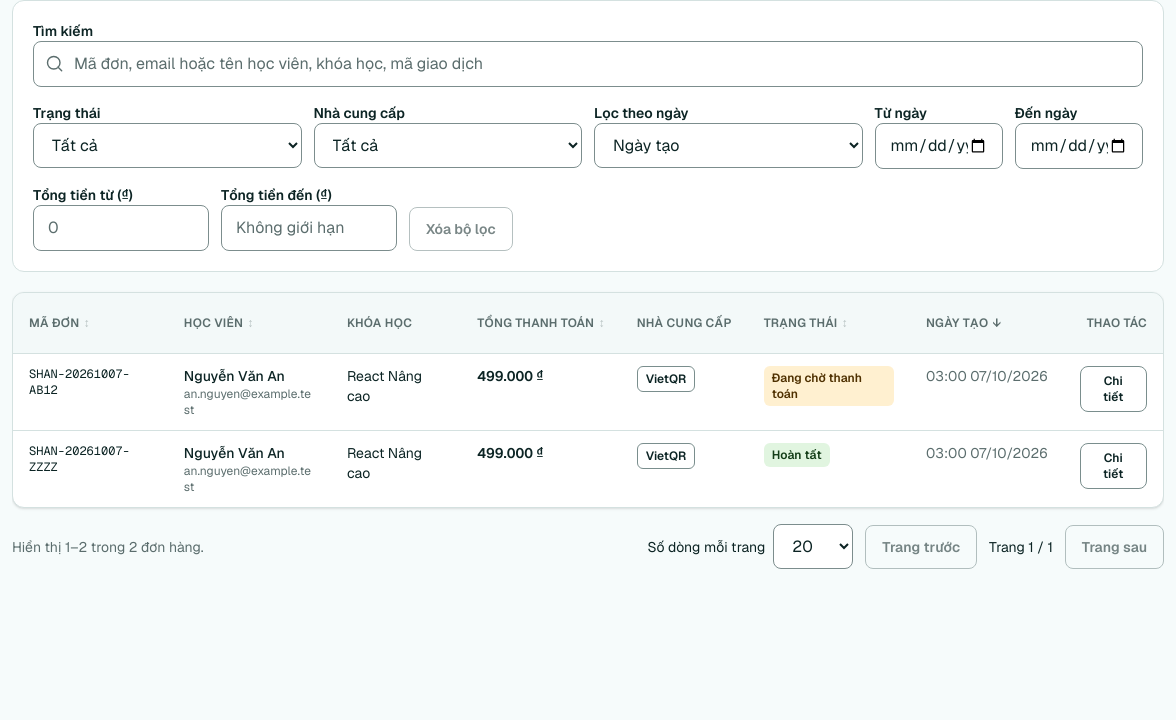
OrdersView › filters by status, provider, date field, dates and amounts
Check: the text "SHAN-20261007-AB12" is shown, box [13, 354, 168, 430]
Select "Đã hoàn tiền" in the dropdown labelled "Trạng thái" at (167, 146), box [33, 123, 302, 168]
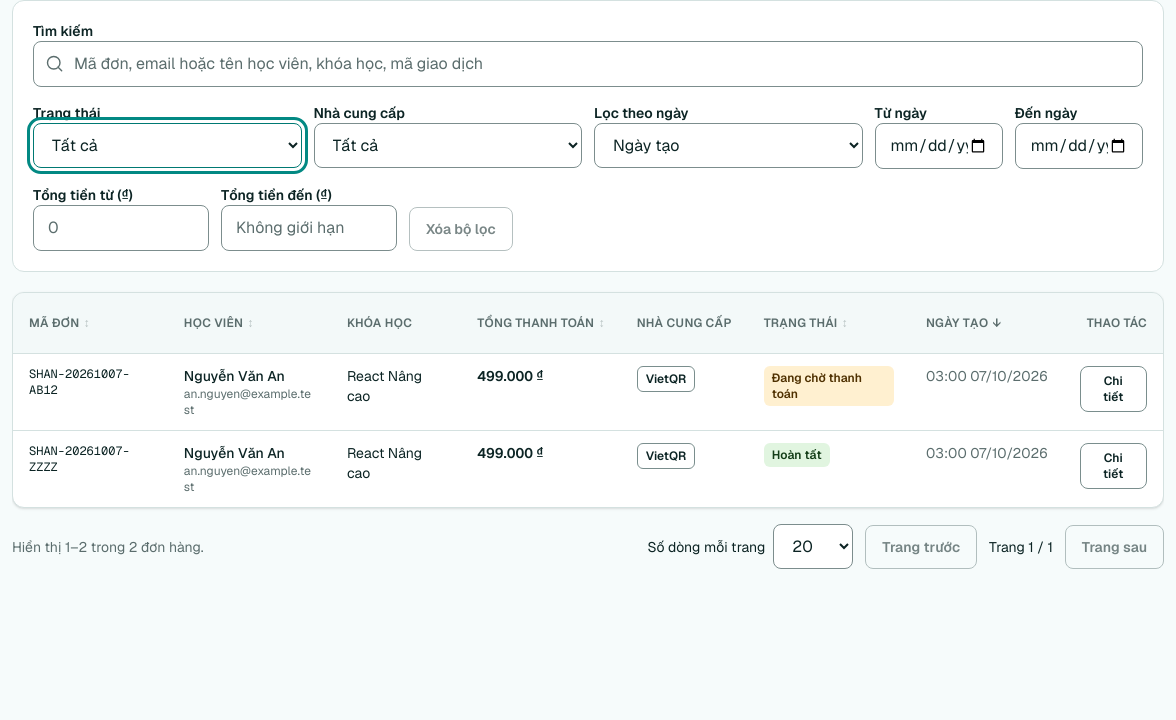
Select "Đối soát thủ công" in the dropdown labelled "Nhà cung cấp" at (448, 146), box [314, 123, 582, 168]
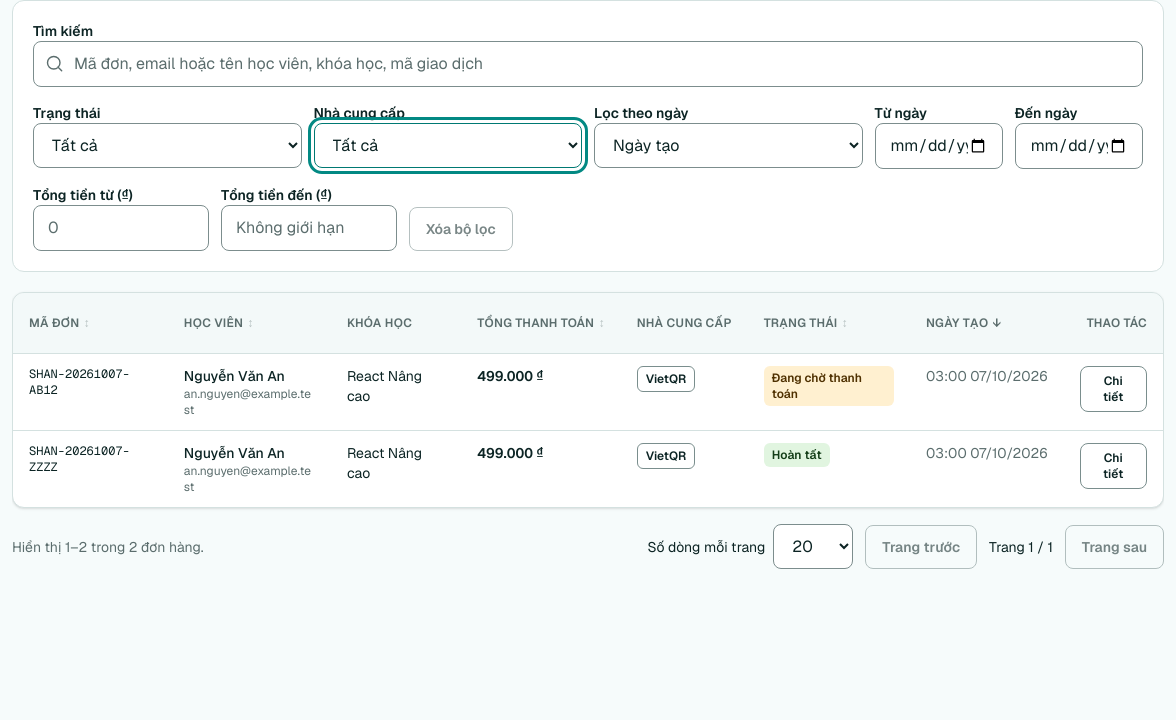
Select "Ngày hoàn tất" in the dropdown labelled "Lọc theo ngày" at (728, 146), box [594, 123, 862, 168]
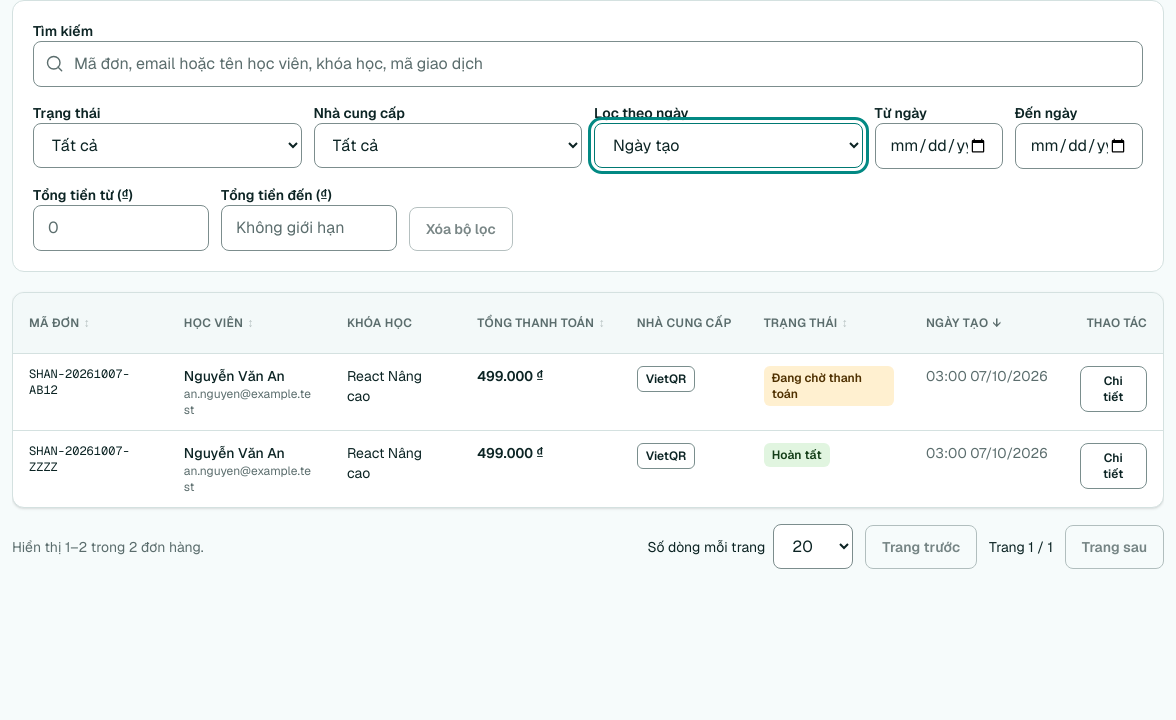
Type "2026-10-01" into the date field labelled "Từ ngày" at (939, 146), box [874, 123, 1003, 169]
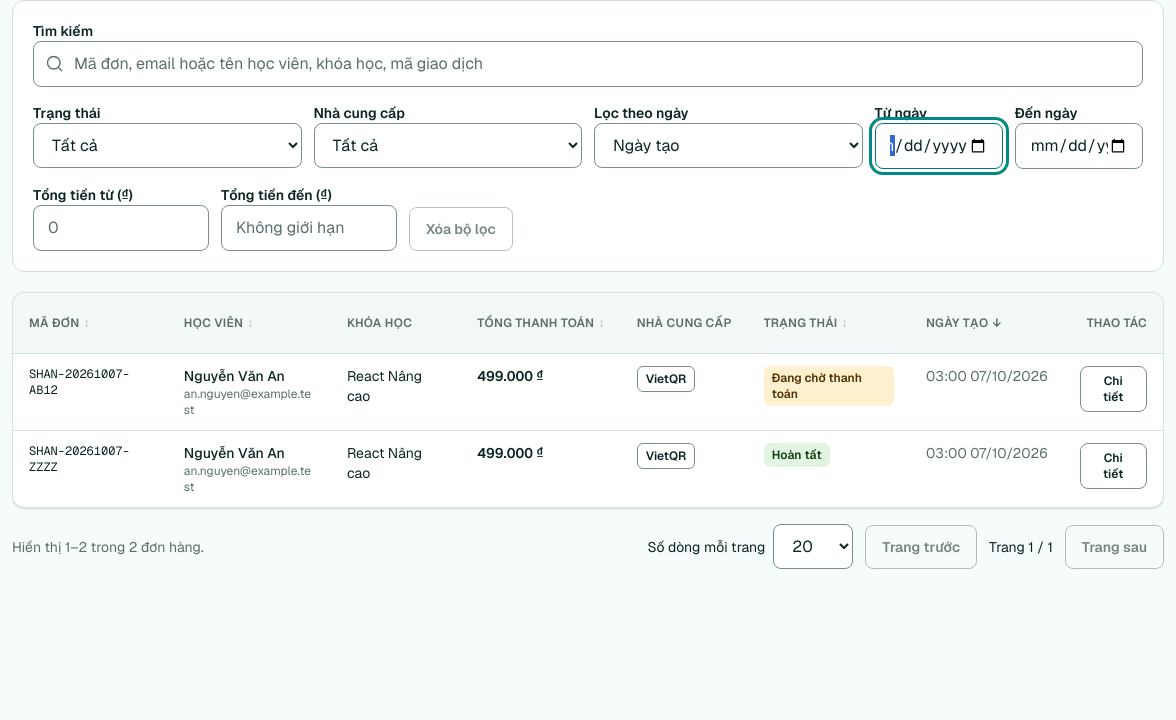
Type "5a00" into the field labelled "Tổng tiền từ (₫)" at (121, 228), box [33, 205, 209, 251]
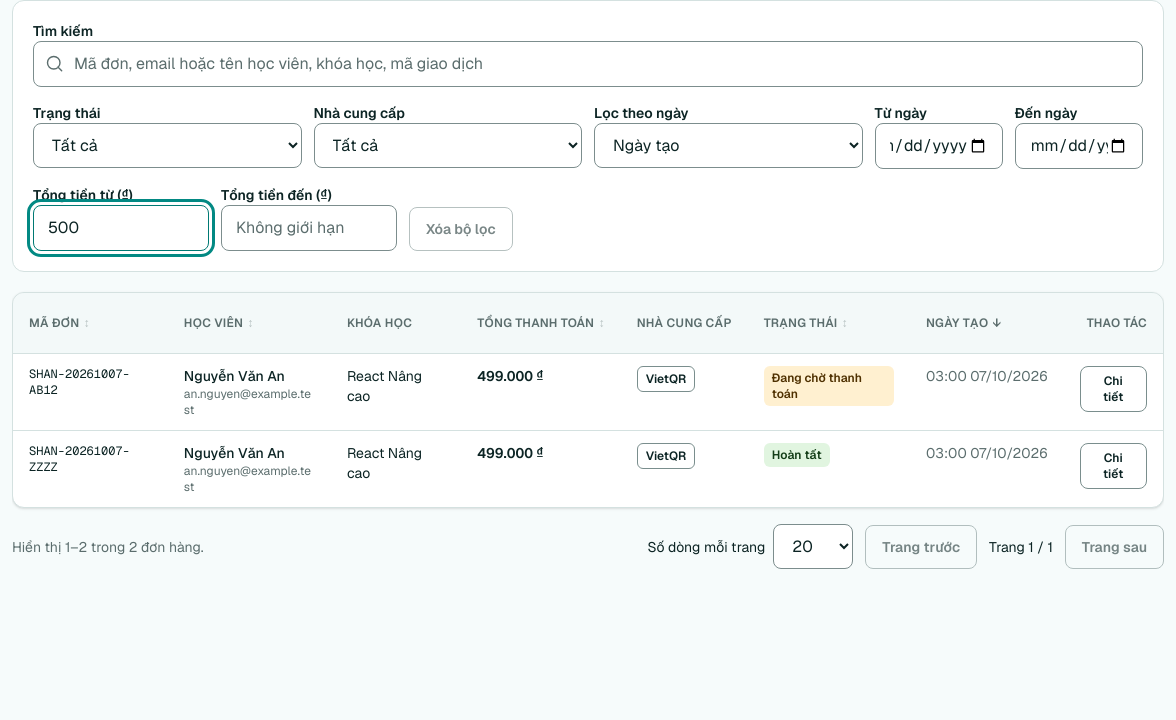
Check: the field labelled "Tổng tiền từ (₫)" holds "500", box [33, 205, 209, 251]
